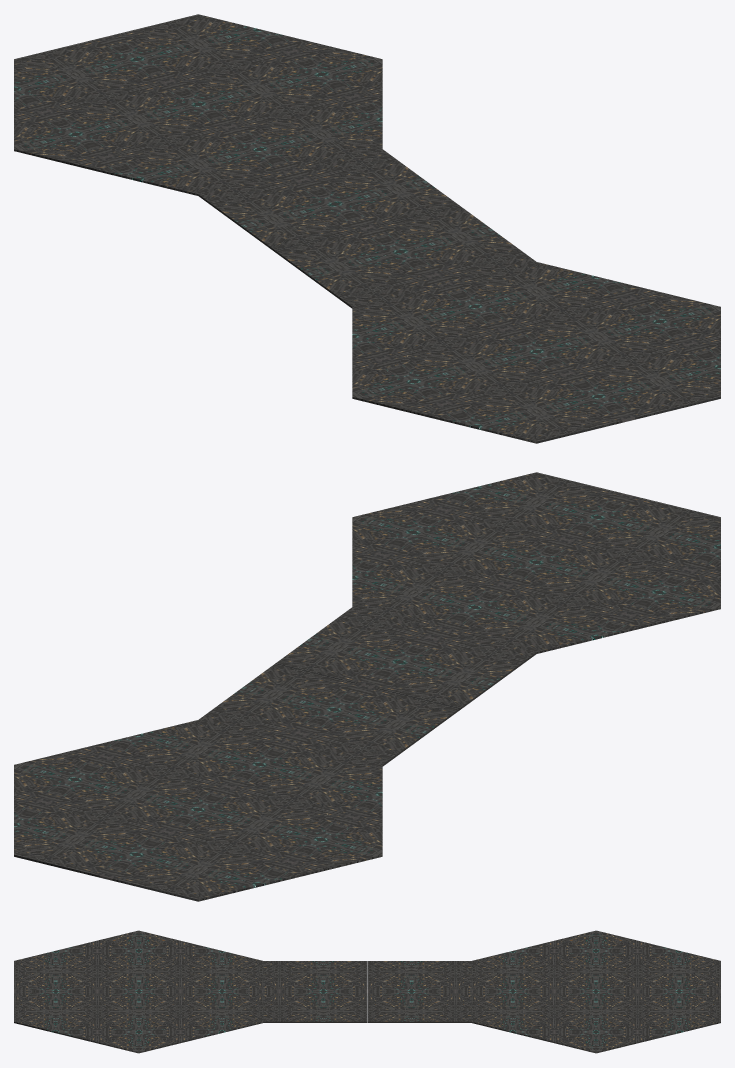
File: floor_tes.FBX
The picture shows the model from 3 angles, top to bottom: view 1: azimuth 30°, elevation 25°; view 2: azimuth 150°, elevation 25°; view 3: azimuth 270°, elevation 25°; orthographic projection. The views are drawn at different scales.
Parts seen in each view (by area): view 1: floor; view 2: floor; view 3: floor.
Boxes of the visible parts, <box> form: floor: <box>14,14,720,443</box>; floor: <box>14,472,720,901</box>; floor: <box>14,930,720,1053</box>.
Bounding box in the file's own units: 1115 × 5.61 × 2738.
